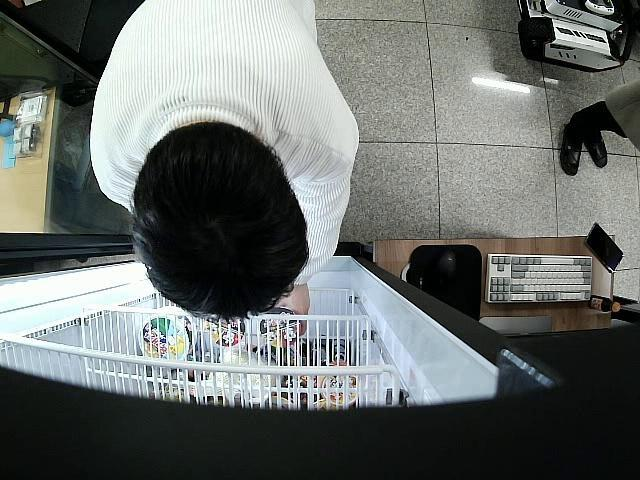08_buldak_S: (260, 306, 300, 349)
